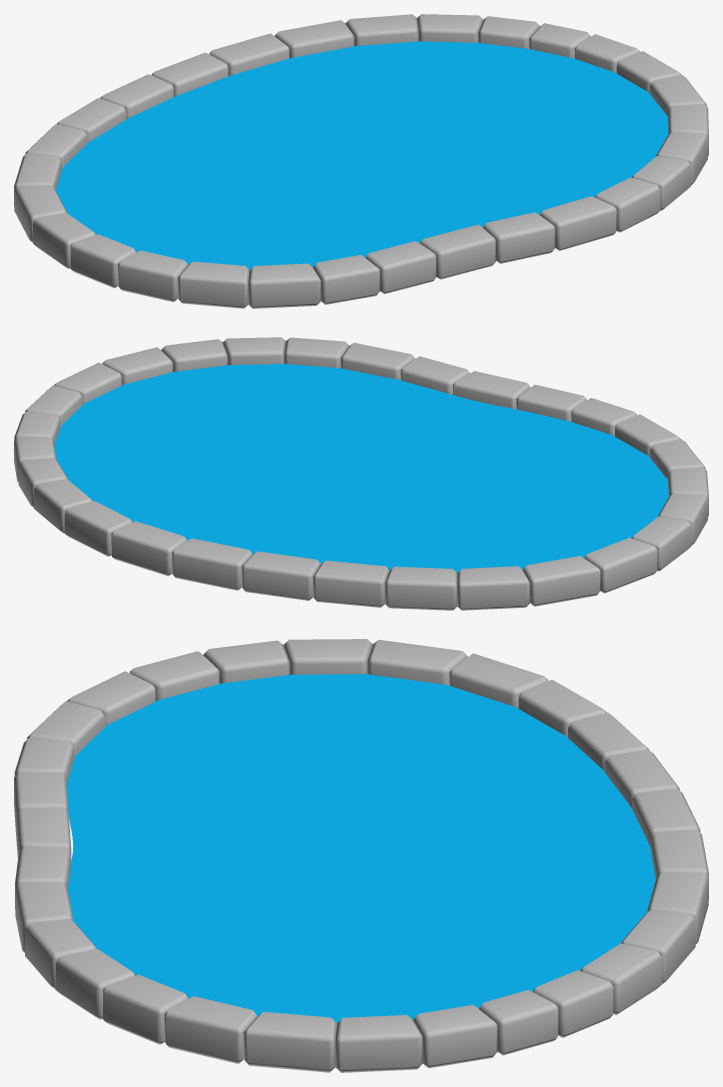
The model's file is Town_15_Pond_1.glb.
3 renders of one model, top to bottom at view 1: azimuth 30°, elevation 25°; view 2: azimuth 150°, elevation 25°; view 3: azimuth 270°, elevation 25°, orthographic. The views are drawn at different scales.
Visible parts, largest first — view 1: Town_15_Pond_1; view 2: Town_15_Pond_1; view 3: Town_15_Pond_1.
Part boxes in pixels (left/top/right/bottom): Town_15_Pond_1: left=14, top=14, right=708, bottom=308; Town_15_Pond_1: left=14, top=337, right=708, bottom=610; Town_15_Pond_1: left=14, top=639, right=708, bottom=1072.
Size of the model in its own units: 5.44 by 0.24 by 3.99.
1 material, 1 textured.
